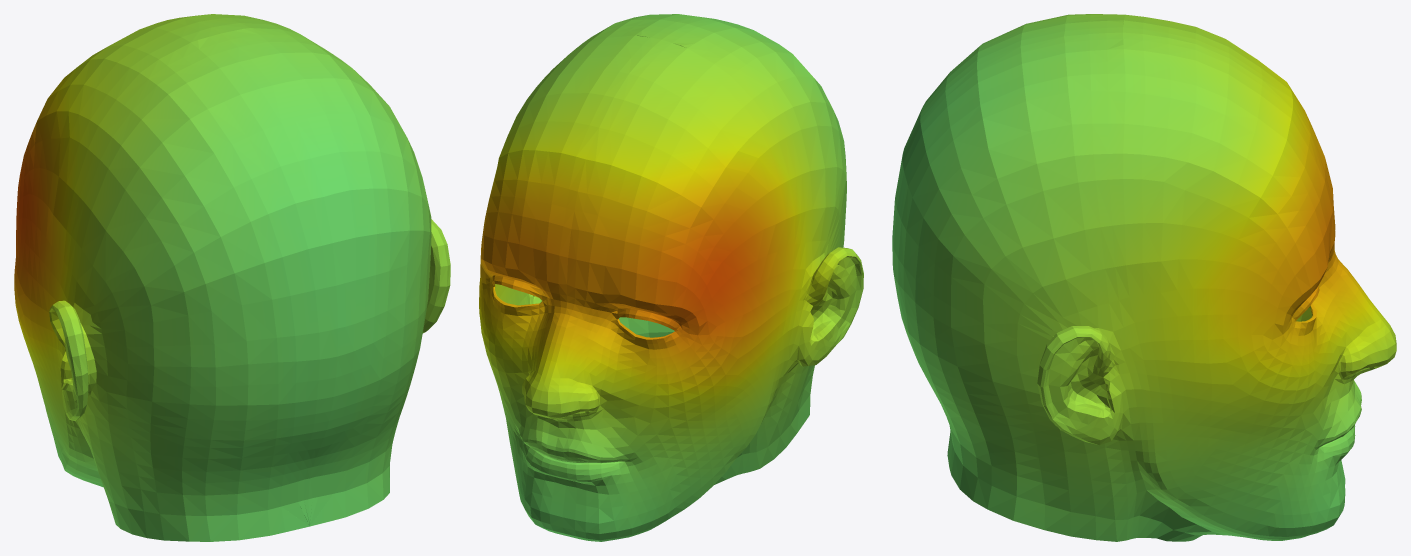
3 views of the same model, side by side, from view 1: azimuth 30°, elevation 25°; view 2: azimuth 150°, elevation 25°; view 3: azimuth 270°, elevation 25° (orthographic). The views are drawn at different scales.
Visible parts, largest first — view 1: EEG_10; view 2: EEG_10; view 3: EEG_10.
Boxes of the visible parts, bbox=[...] form: EEG_10: bbox=[14, 14, 450, 541]; EEG_10: bbox=[479, 14, 863, 541]; EEG_10: bbox=[892, 14, 1396, 541].
Size of the model in its own units: 17.97 by 22.42 by 20.81.
